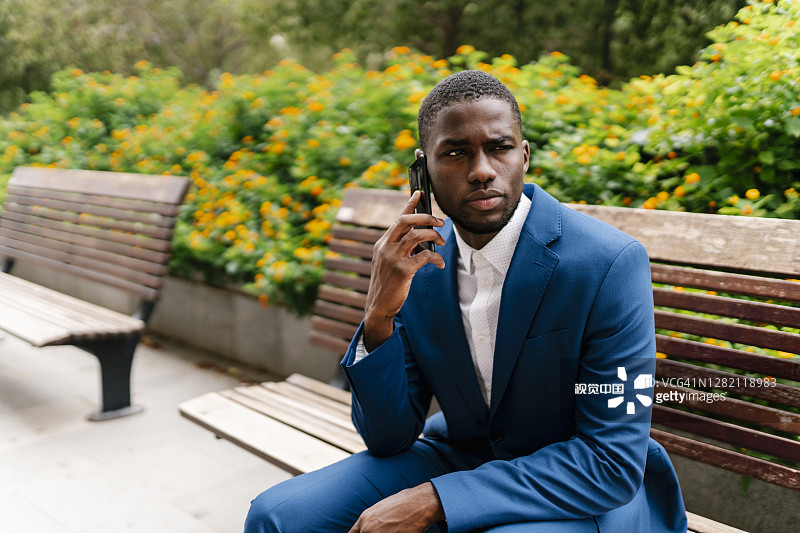calling: (345, 151, 467, 342)
